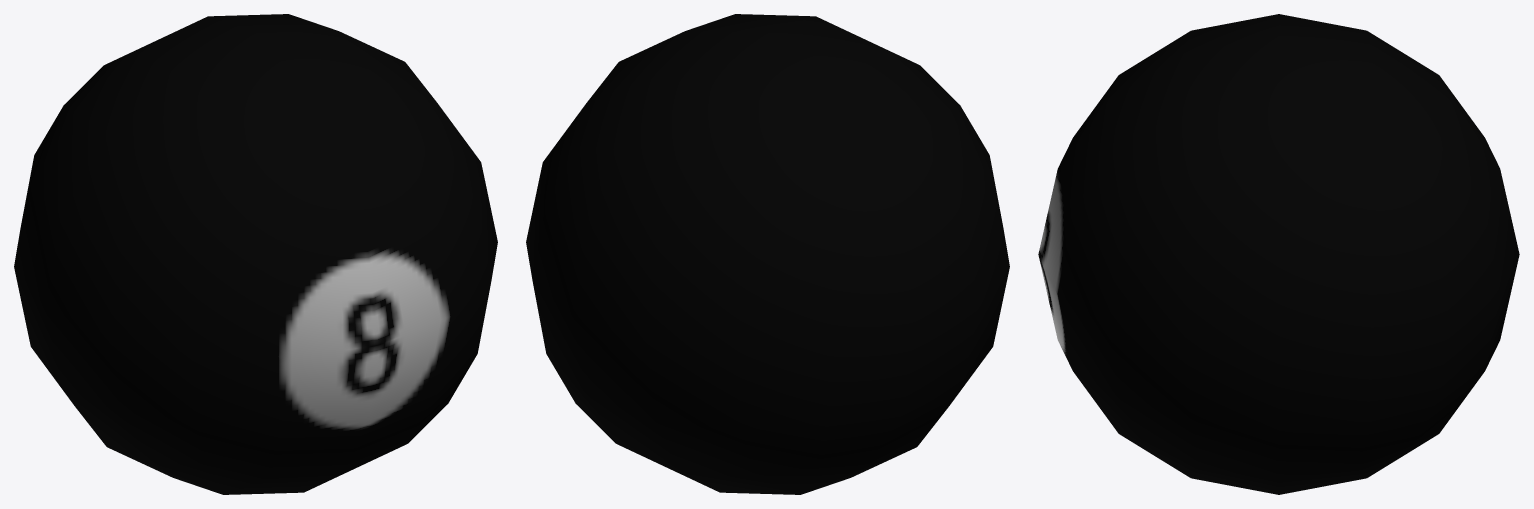
File: asset.gltf
3 views of the same model, side by side, from view 1: azimuth 30°, elevation 25°; view 2: azimuth 150°, elevation 25°; view 3: azimuth 270°, elevation 25° (orthographic).
Visible parts, largest first — view 1: node-0; view 2: node-0; view 3: node-0.
Boxes of the visible parts, <box> form: node-0: <box>14,14,497,494</box>; node-0: <box>526,14,1009,494</box>; node-0: <box>1038,14,1519,494</box>.
Bounding box in the file's own units: 0.0522 × 0.0522 × 0.0522.
Materials: 1 (1 with a texture image).
